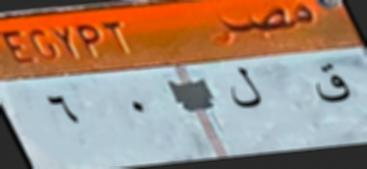0: (127, 98, 154, 117)
6: (44, 90, 82, 133)
laam: (225, 65, 262, 116)
qaaf: (310, 60, 354, 111)
